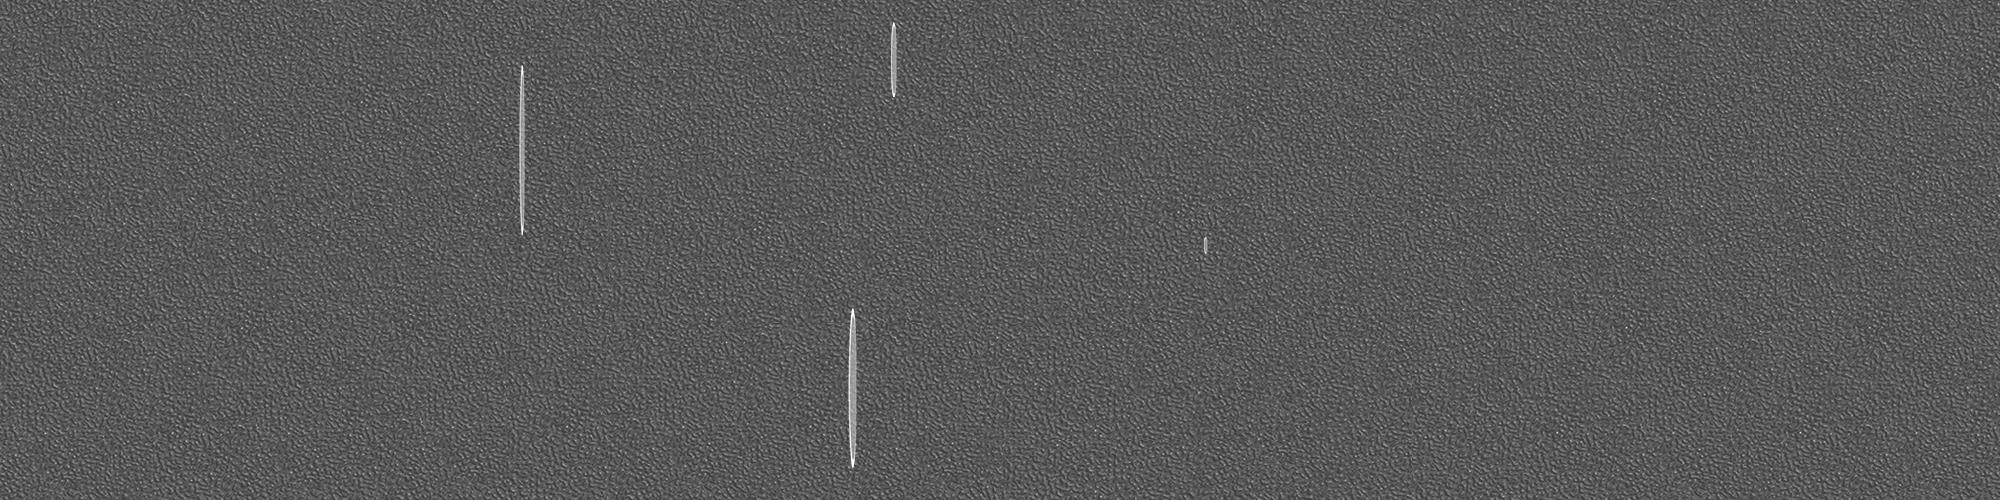Streaks: (837, 300, 874, 473), (509, 57, 533, 247), (878, 19, 907, 106), (1199, 233, 1210, 258)
